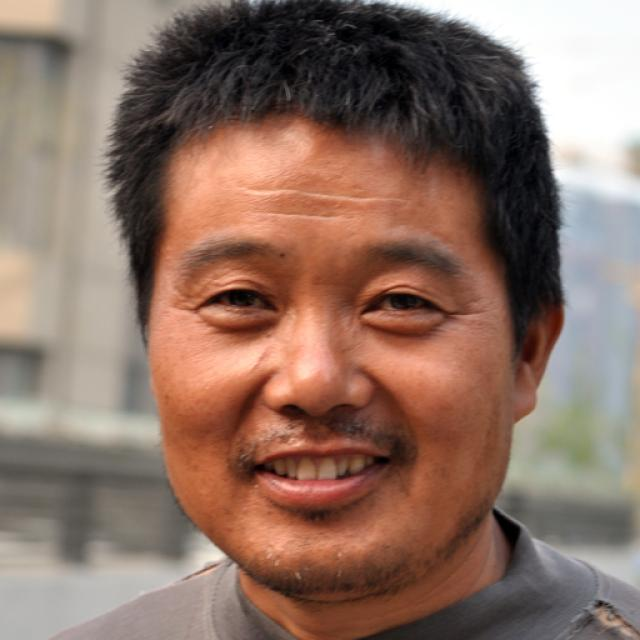Wrinkle: (246, 184, 411, 205), (256, 207, 336, 222)
